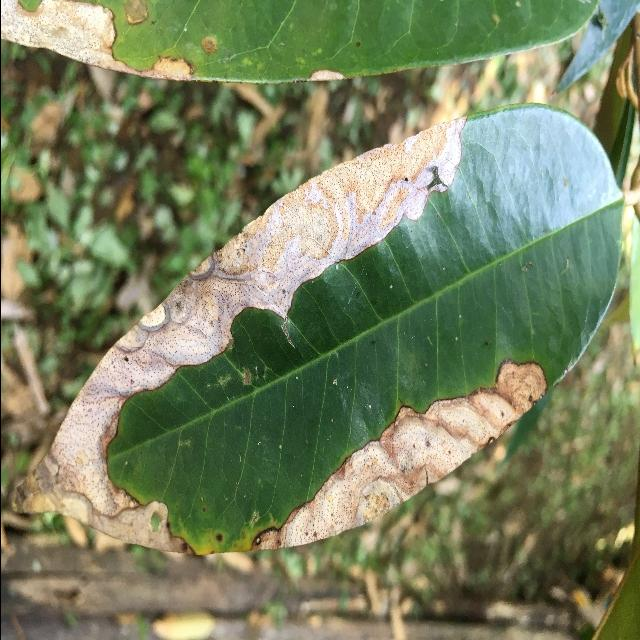Leaf Blight: (4, 97, 629, 558)
